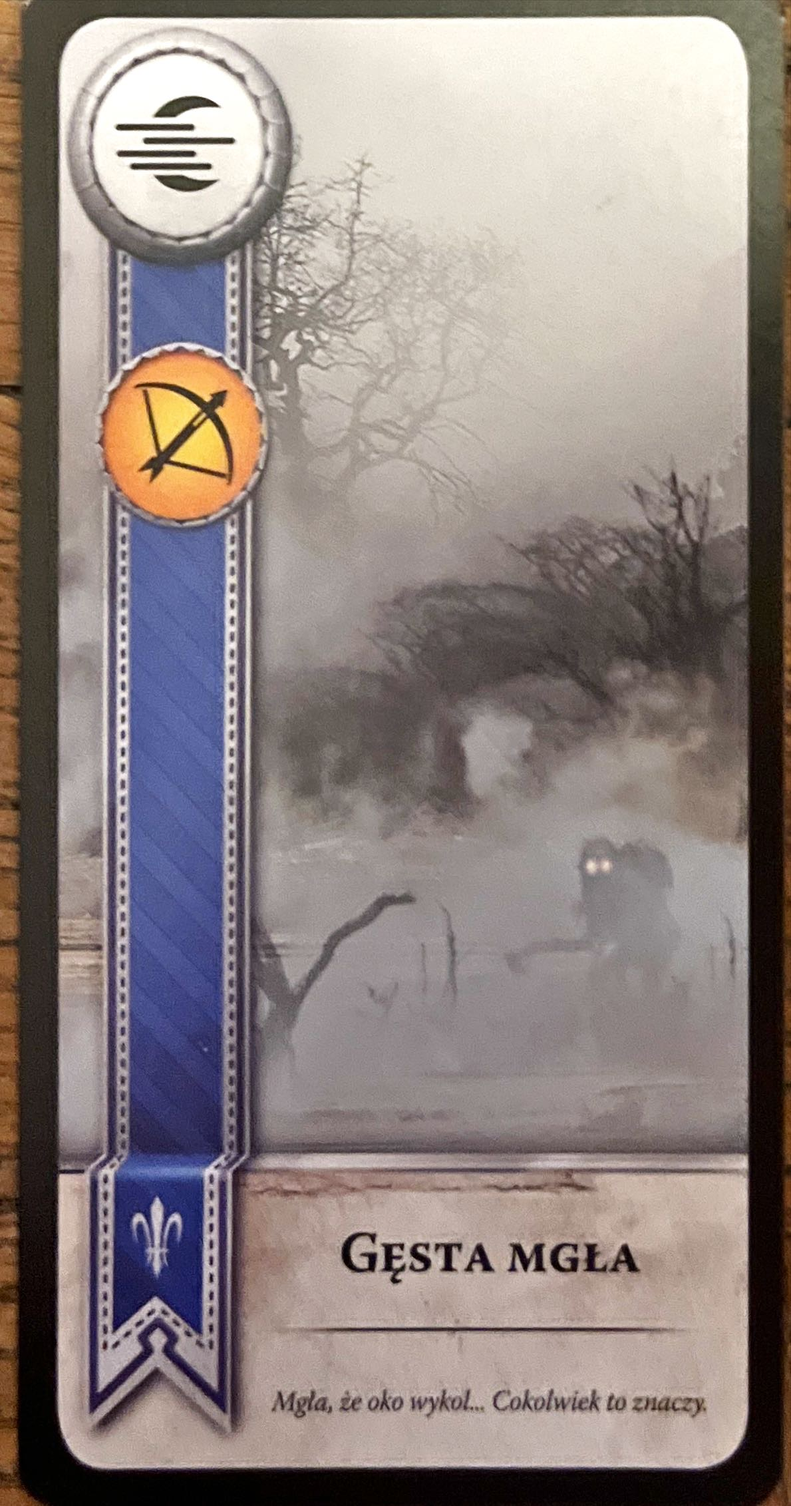lucznik: (96, 338, 270, 527)
mgla: (65, 23, 293, 265)
